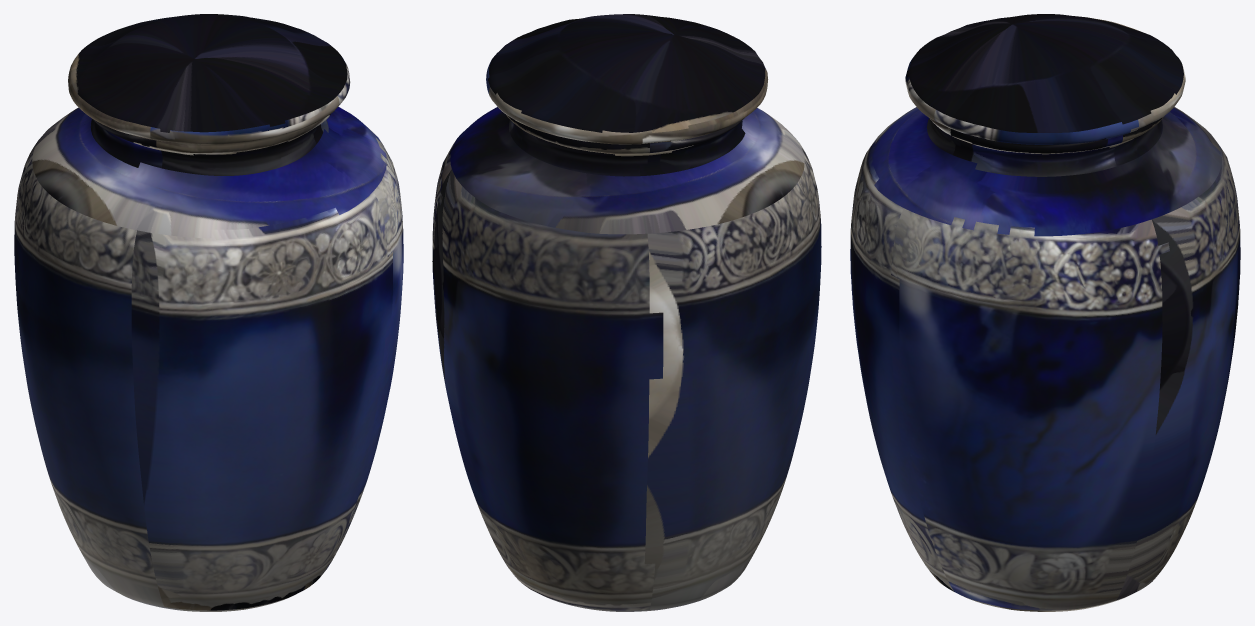
3 renders of one model, left to right at view 1: azimuth 30°, elevation 25°; view 2: azimuth 150°, elevation 25°; view 3: azimuth 270°, elevation 25°, orthographic.
Parts seen in each view (by area): view 1: Serene_Vessel_1125092654; view 2: Serene_Vessel_1125092654; view 3: Serene_Vessel_1125092654.
Part boxes in pixels (x1,y1,x2,y2): Serene_Vessel_1125092654: (14, 14, 403, 611); Serene_Vessel_1125092654: (432, 14, 821, 611); Serene_Vessel_1125092654: (850, 14, 1240, 611).
Bounding box in the file's own units: 1.33 × 2 × 1.33.
